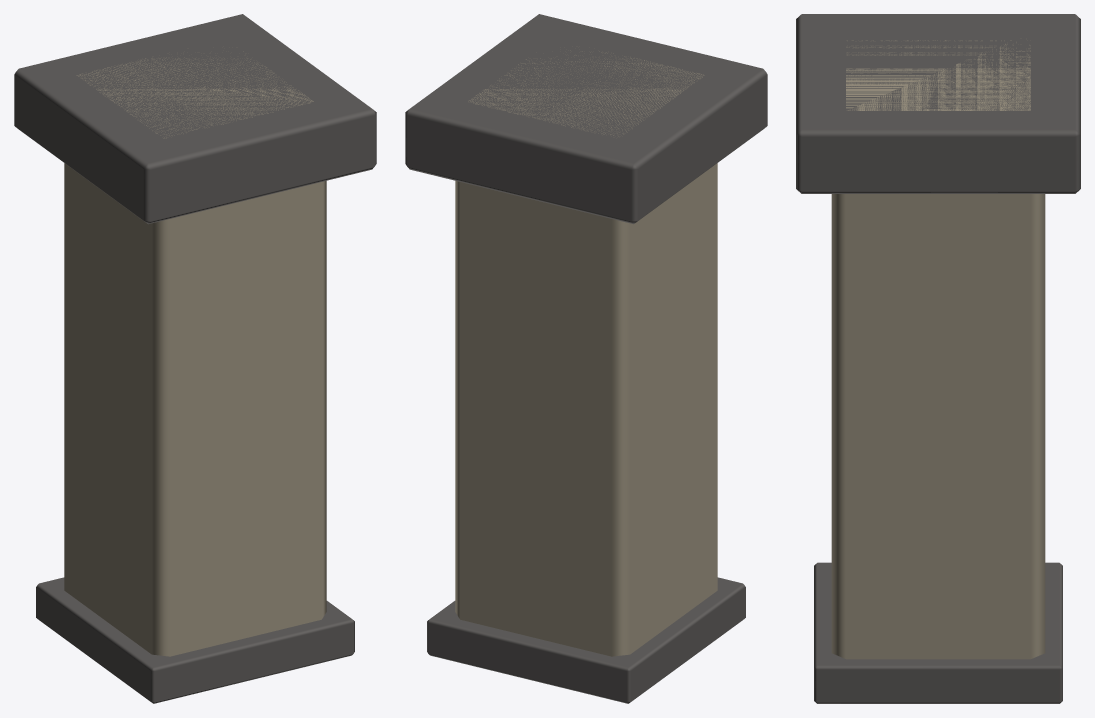
The model's file is stone-halls-bridge-pier.1828f9f7.glb.
3 renders of one model, left to right at view 1: azimuth 30°, elevation 25°; view 2: azimuth 150°, elevation 25°; view 3: azimuth 270°, elevation 25°, orthographic. The views are drawn at different scales.
Parts seen in each view (by area): view 1: body; view 2: body; view 3: body.
Part boxes in pixels (left/top/right/bottom): body: left=14, top=14, right=376, bottom=703; body: left=405, top=14, right=767, bottom=703; body: left=796, top=14, right=1080, bottom=703.
Size of the model in its own units: 0.8 by 1.8 by 0.8.
